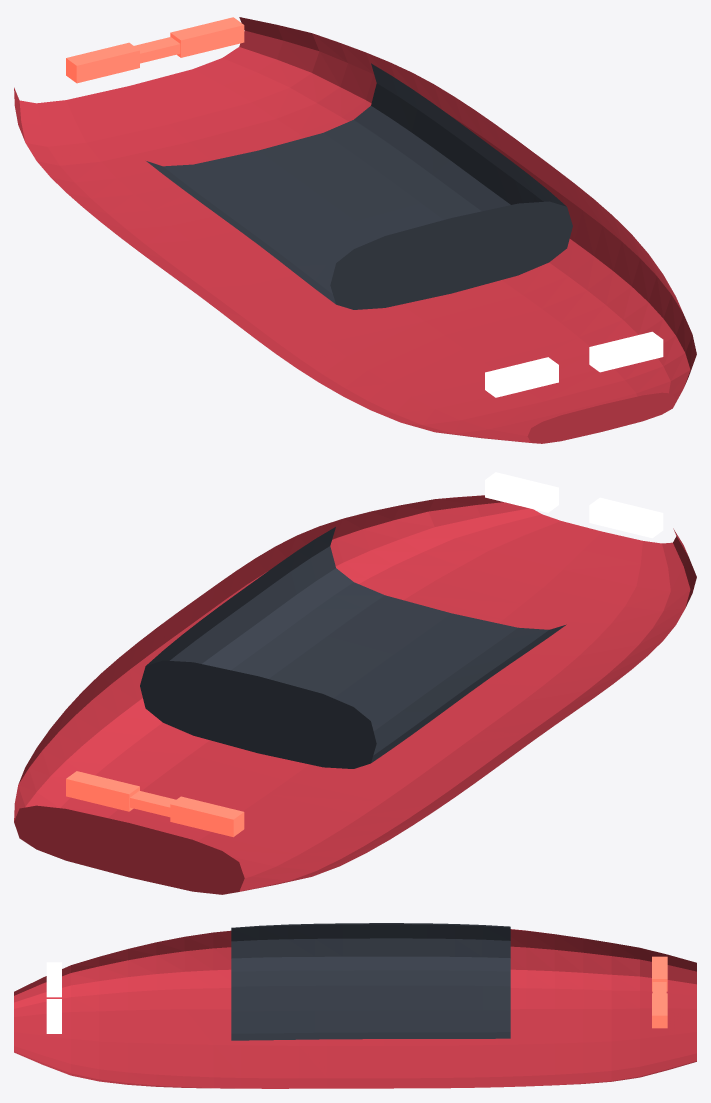
File: roadster-0.glb
3 renders of one model, top to bottom at view 1: azimuth 30°, elevation 25°; view 2: azimuth 150°, elevation 25°; view 3: azimuth 270°, elevation 25°, orthographic. The views are drawn at different scales.
Bounding box in the file's own units: 1.91 × 0.6702 × 4.4.
